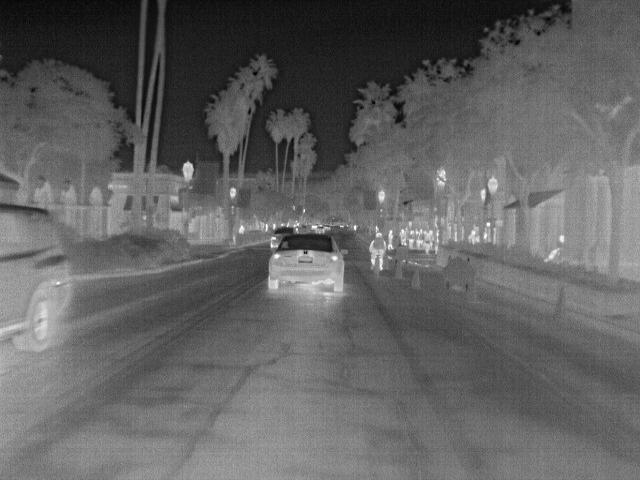car: (0, 201, 75, 357), (264, 234, 349, 294), (268, 225, 301, 249)
person: (367, 228, 387, 271), (420, 229, 433, 255), (384, 227, 396, 249), (464, 228, 479, 244), (396, 226, 408, 246), (408, 228, 417, 248)
